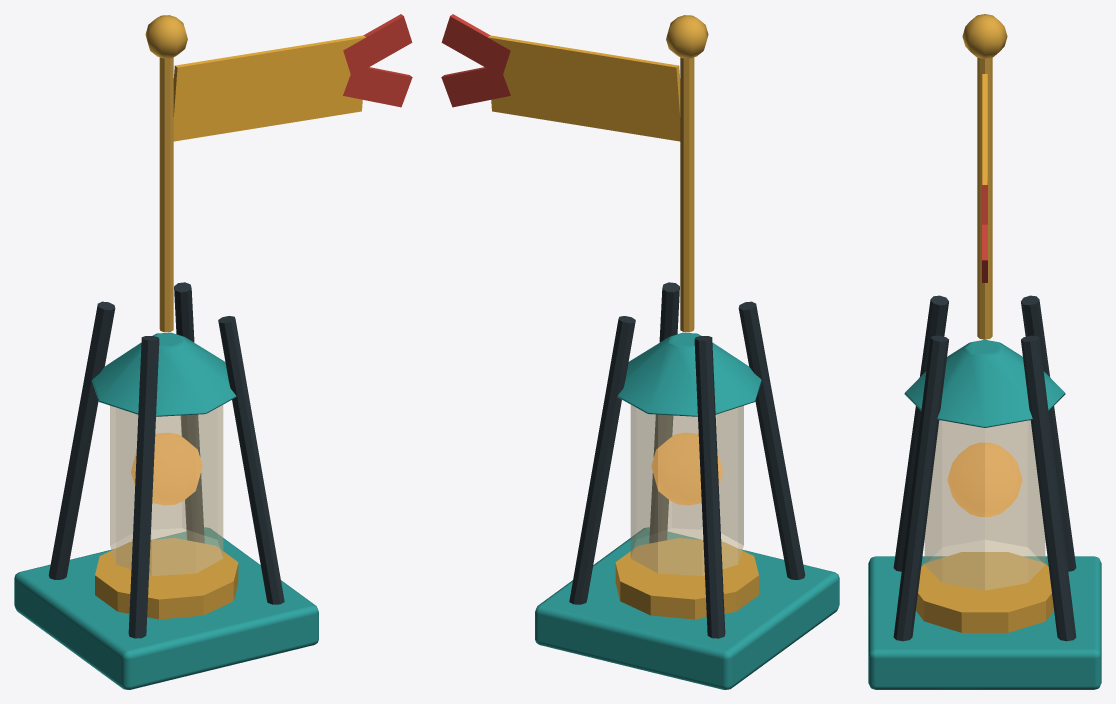
Rendered from rt_pylon_head.glb.
3 renders of one model, left to right at view 1: azimuth 30°, elevation 25°; view 2: azimuth 150°, elevation 25°; view 3: azimuth 270°, elevation 25°, orthographic. The views are drawn at different scales.
Visible parts, largest first — view 1: rt_pylon_head_body; view 2: rt_pylon_head_body; view 3: rt_pylon_head_body.
Boxes of the visible parts, x1,y1,x2,y2 form: rt_pylon_head_body: (14,14,412,689); rt_pylon_head_body: (441,14,839,689); rt_pylon_head_body: (868,14,1101,689).
Size of the model in its own units: 1.08 by 1.84 by 0.62.
